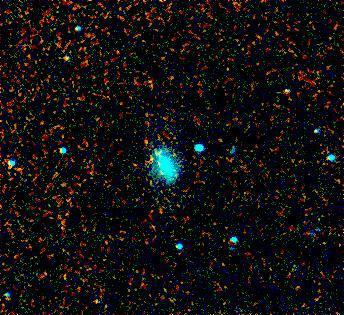star: (52, 42, 82, 72)
